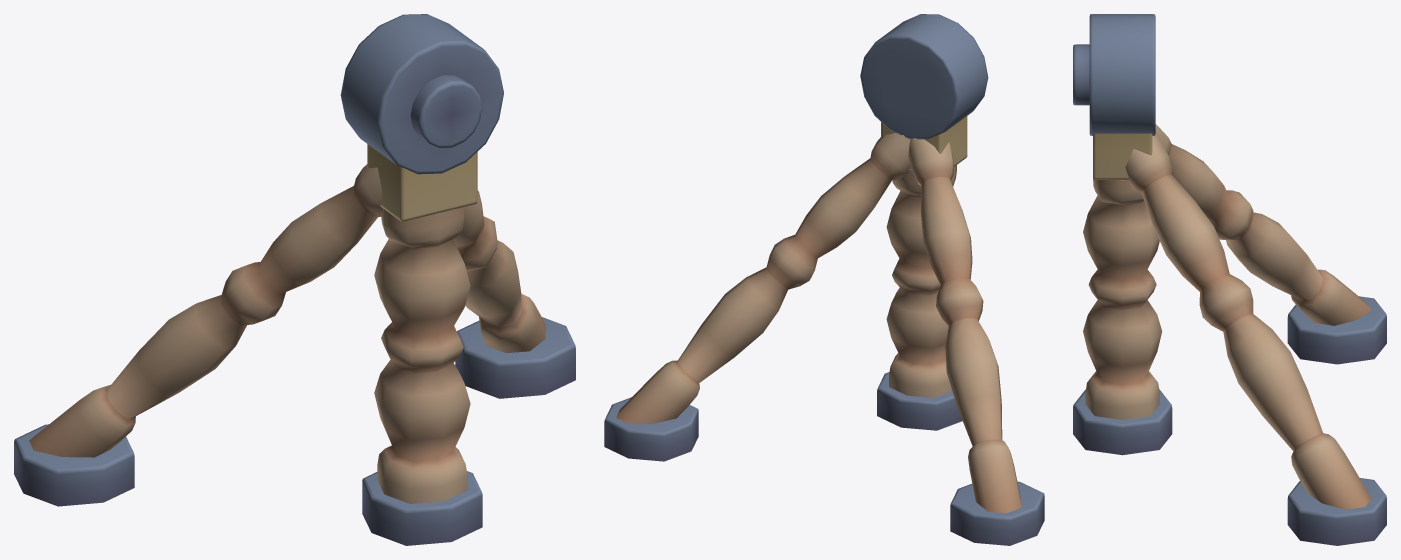
File: Wheel_base.fbx
The picture shows the model from 3 angles, left to right: view 1: azimuth 30°, elevation 25°; view 2: azimuth 150°, elevation 25°; view 3: azimuth 270°, elevation 25°; orthographic projection. The views are drawn at different scales.
Parts seen in each view (by area): view 1: Wheel_base; view 2: Wheel_base; view 3: Wheel_base.
Part boxes in pixels (x1,y1,x2,y2): Wheel_base: [14, 14, 575, 545]; Wheel_base: [604, 14, 1044, 545]; Wheel_base: [1073, 14, 1386, 545].
Bounding box in the file's own units: 160 × 140 × 95.
